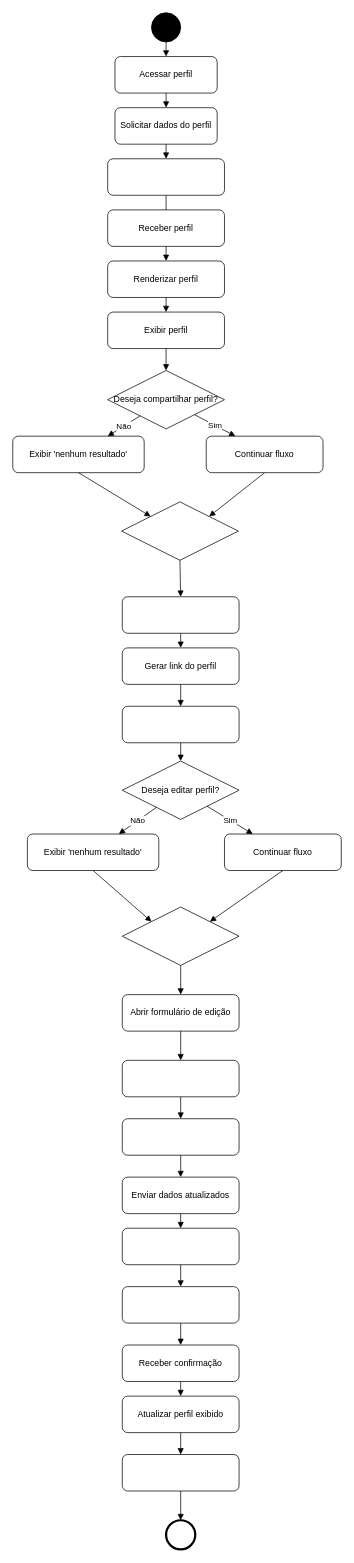
This 354x1563 diagram has some shape labels left out. The shapes that lost their labels are listed below. From the top down, each one's box as (x1, y1, x2, y2) in pixels, then its label:
(107, 158, 224, 195): Buscar perfil
(122, 596, 239, 633): Compartilhar perfil
(122, 706, 239, 743): Exibir opções de compartilhamento
(122, 1060, 239, 1097): Alterar dados
(122, 1118, 239, 1155): Salvar alterações
(122, 1227, 239, 1265): Atualizar perfil no sistema
(122, 1286, 239, 1323): Salvar dados no banco
(122, 1454, 239, 1491): Exibir perfil atualizado
